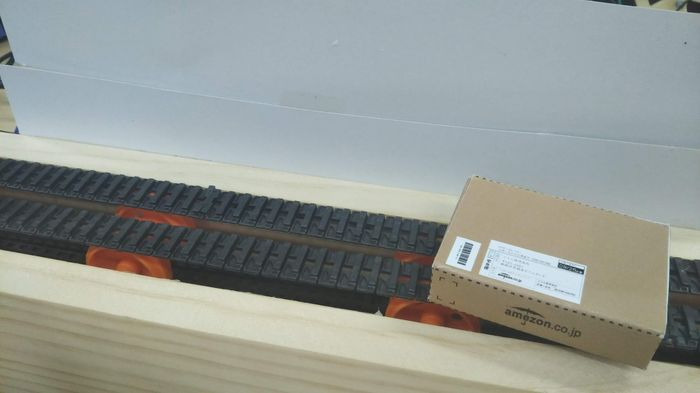box2: (427, 172, 674, 370)
